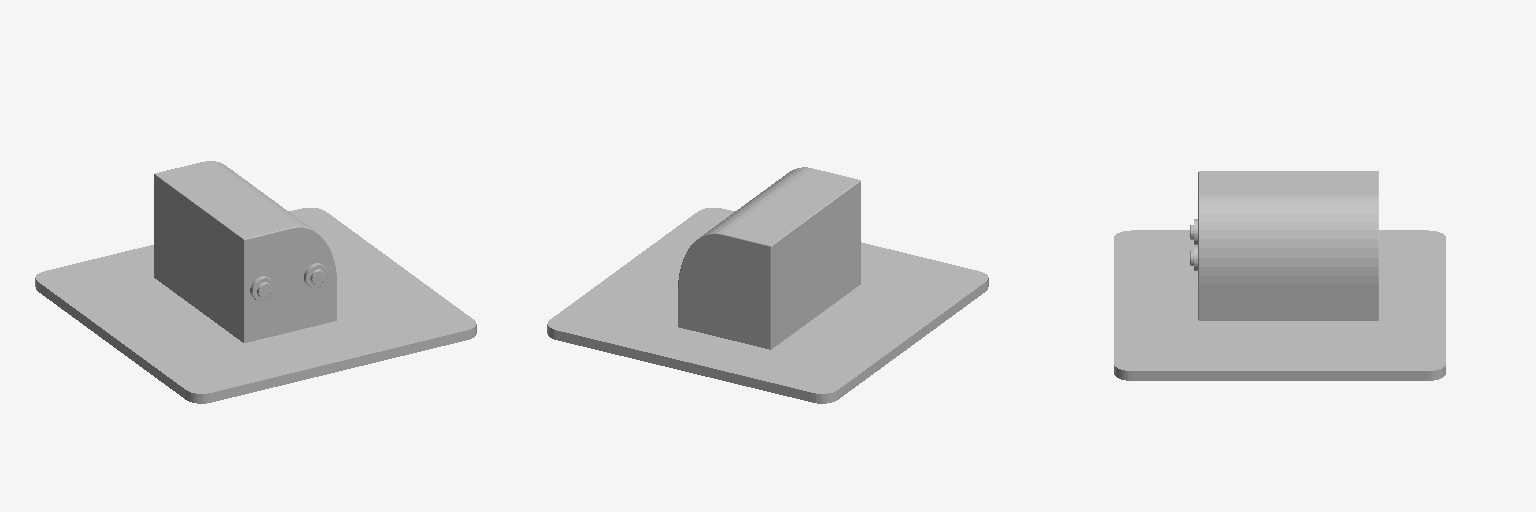
Rendered from left.obj.
3 renders of one model, left to right at view 1: azimuth 30°, elevation 25°; view 2: azimuth 150°, elevation 25°; view 3: azimuth 270°, elevation 25°, orthographic.
Visible parts, largest first — view 1: 左下主体物底座.1, 左下主体物; view 2: 左下主体物底座.1, 左下主体物; view 3: 左下主体物底座.1, 左下主体物.
Boxes of the visible parts, x1,y1,x2,y2 form: 左下主体物底座.1: [35, 208, 476, 403]; 左下主体物: [154, 161, 336, 342]; 左下主体物底座.1: [547, 208, 988, 403]; 左下主体物: [678, 167, 860, 349]; 左下主体物底座.1: [1114, 230, 1445, 380]; 左下主体物: [1190, 171, 1378, 320].
Size of the model in its own units: 132 by 51.57 by 132.